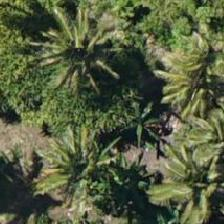coconut_tree: (29, 12, 119, 102), (44, 127, 134, 217), (145, 34, 223, 124), (150, 140, 223, 223)
